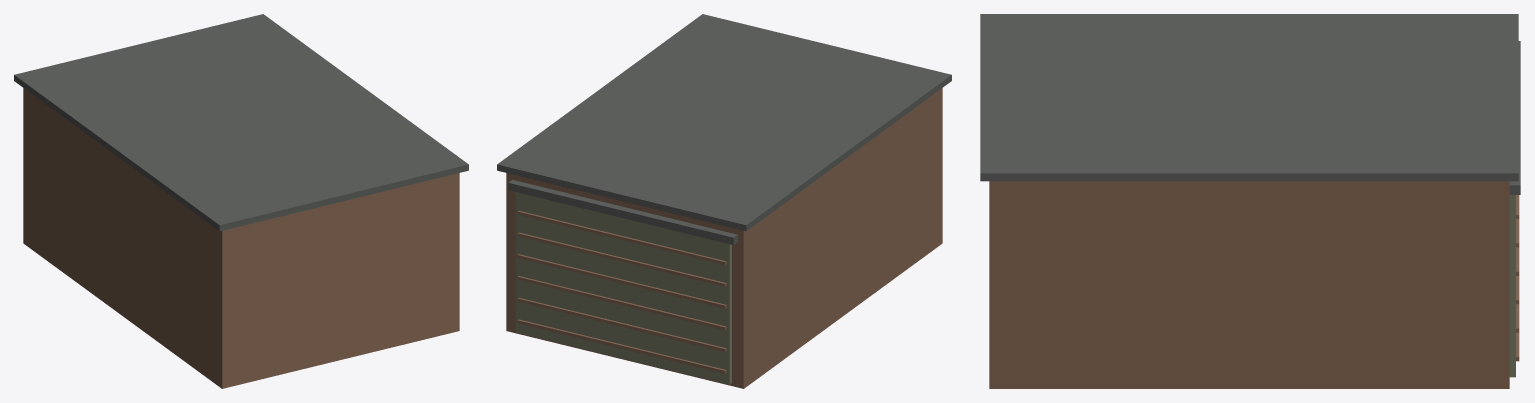
File: b_garage.glb
The picture shows the model from 3 angles, left to right: view 1: azimuth 30°, elevation 25°; view 2: azimuth 150°, elevation 25°; view 3: azimuth 270°, elevation 25°; orthographic projection. The views are drawn at different scales.
Visible parts, largest first — view 1: body; view 2: body; view 3: body.
Part boxes in pixels (bbox=[...]): body: bbox=[14, 14, 468, 388]; body: bbox=[497, 14, 951, 388]; body: bbox=[980, 14, 1520, 388].
Bounding box in the file's own units: 4.2 × 2.7 × 6.02.
